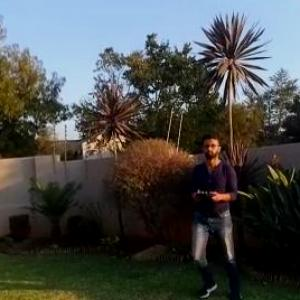follow: (178, 133, 257, 299)
